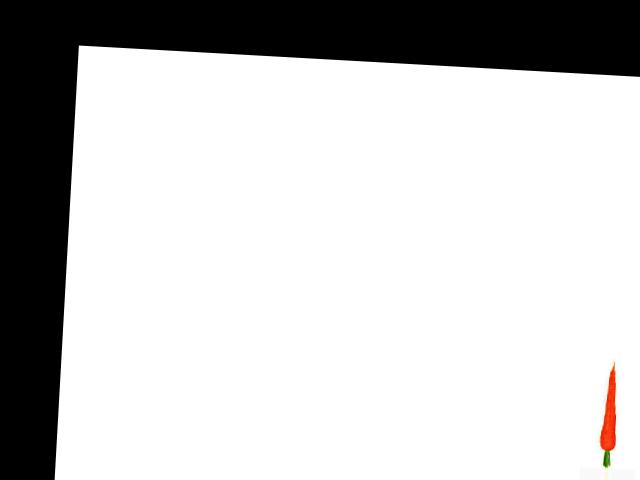carrot: (595, 358, 624, 453)
